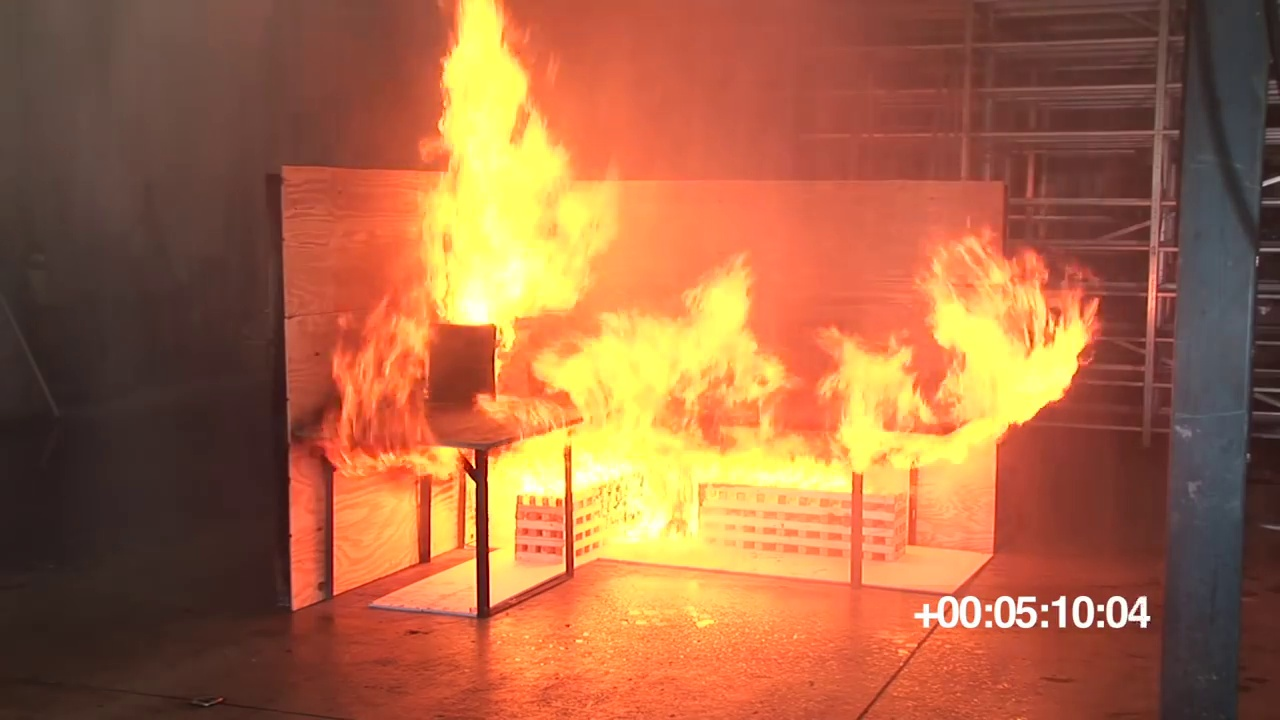fire: (416, 1, 577, 320), (537, 245, 787, 437), (490, 438, 860, 499), (932, 263, 1075, 406), (319, 303, 430, 471), (815, 337, 925, 461)
